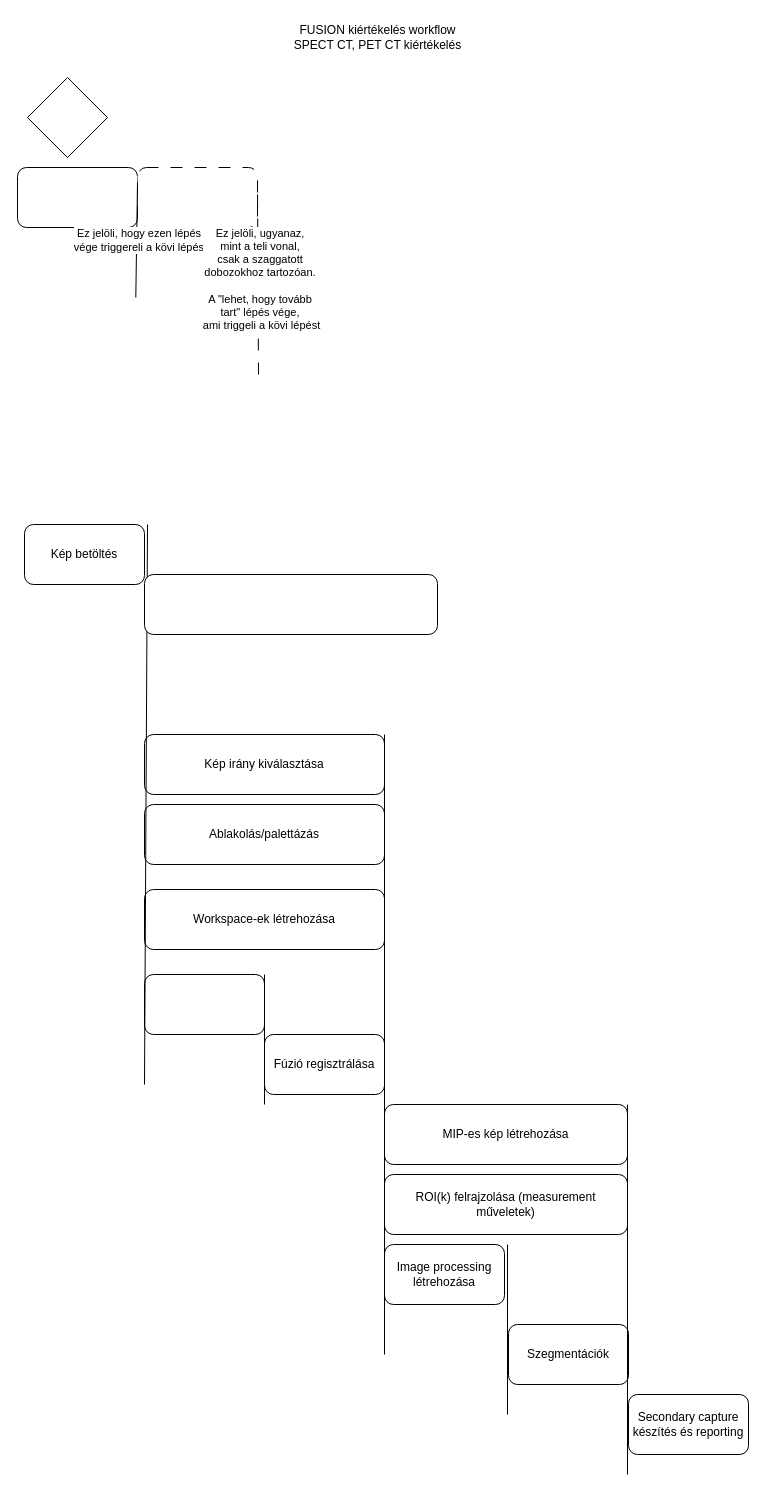
Image size: 766x1493. Some labels were removed from this diagram. Here are the shapes that lost their labels. From the top down, the centre of each, then its label:
the point at 67,117: Kérdés
the point at 77,197: Lépés
the point at 197,197: A lépés lehet, hogy tovább tart
the point at 291,604: Layout (Előre definiált irány választás, ablakozás, worlkspace létrehozás)
the point at 204,1004: Fúzió létrehozása
